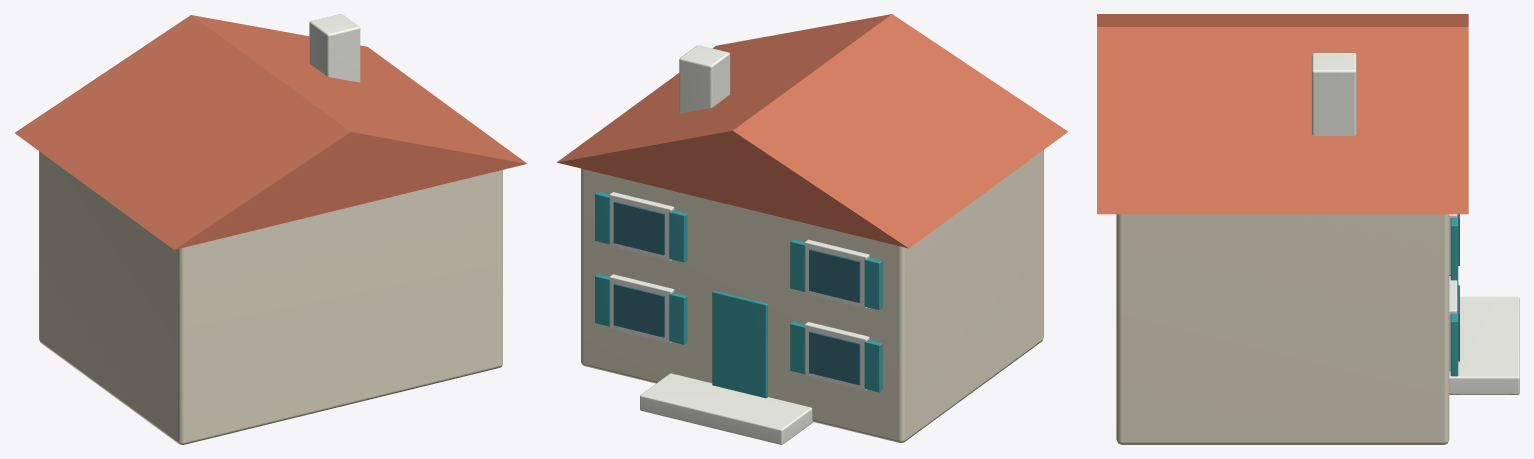
The model's file is CoastHouse.fbx.
3 renders of one model, left to right at view 1: azimuth 30°, elevation 25°; view 2: azimuth 150°, elevation 25°; view 3: azimuth 270°, elevation 25°, orthographic. The views are drawn at different scales.
Visible parts, largest first — view 1: StuccoWalls, PitchedRoof, Chimney; view 2: PitchedRoof, StuccoWalls, Porch, FrontDoor, Chimney, WindowGlass, WindowGlass.001, WindowGlass.002, WindowGlass.003, WindowFrame.002, WindowFrame.001, WindowFrame.003 (+9 smaller); view 3: StuccoWalls, PitchedRoof, Porch, Chimney, Shutter.005, Shutter.007, WindowFrame.002.
Part boxes in pixels (bbox=[...]): StuccoWalls: bbox=[39, 151, 502, 444]; PitchedRoof: bbox=[15, 15, 527, 249]; Chimney: bbox=[309, 14, 360, 82]; PitchedRoof: bbox=[557, 14, 1067, 248]; StuccoWalls: bbox=[581, 150, 1043, 442]; Porch: bbox=[640, 373, 813, 444]; FrontDoor: bbox=[712, 290, 767, 398]; Chimney: bbox=[679, 45, 730, 113]; WindowGlass: bbox=[809, 331, 860, 385]; WindowGlass.001: bbox=[809, 249, 860, 302]; WindowGlass.002: bbox=[613, 283, 664, 337]; WindowGlass.003: bbox=[613, 201, 664, 255]; WindowFrame.002: bbox=[609, 274, 674, 343]; WindowFrame.001: bbox=[804, 239, 869, 308]; WindowFrame.003: bbox=[609, 192, 674, 260]; StuccoWalls: bbox=[1116, 214, 1449, 444]; PitchedRoof: bbox=[1097, 14, 1468, 214]; Porch: bbox=[1449, 296, 1519, 394]; Chimney: bbox=[1311, 52, 1356, 135]; Shutter.005: bbox=[1450, 313, 1458, 376]; Shutter.007: bbox=[1450, 217, 1458, 280]; WindowFrame.002: bbox=[1449, 276, 1457, 371].
Size of the model in its own units: 7.4 by 5.9 by 6.6.
